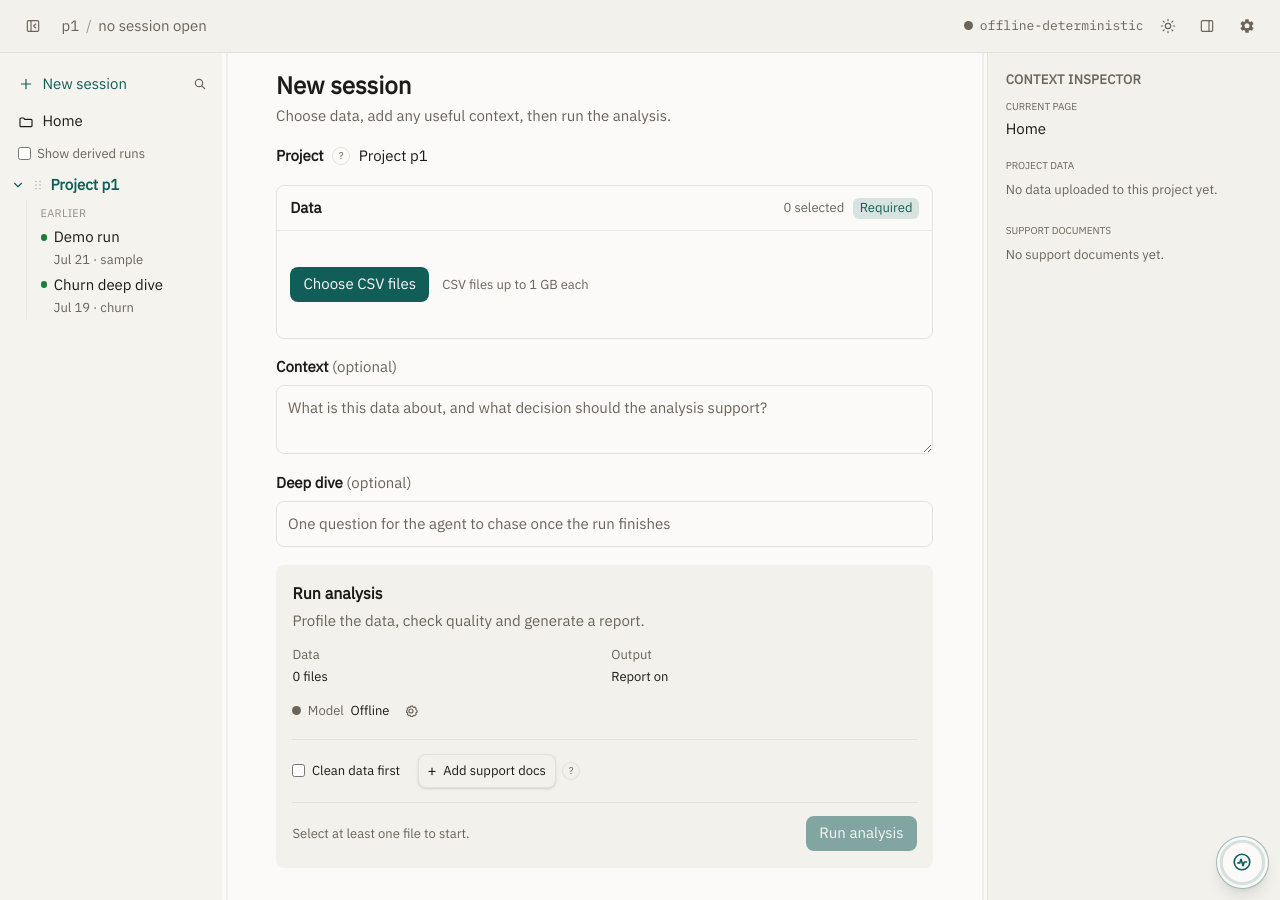
Launchpad › opens Settings in a dialog without leaving the page
Expected: the heading "New session" is shown, [276, 69, 411, 101]
Click the button named "Configure LLM in Settings": (411,711) [396, 696, 427, 726]
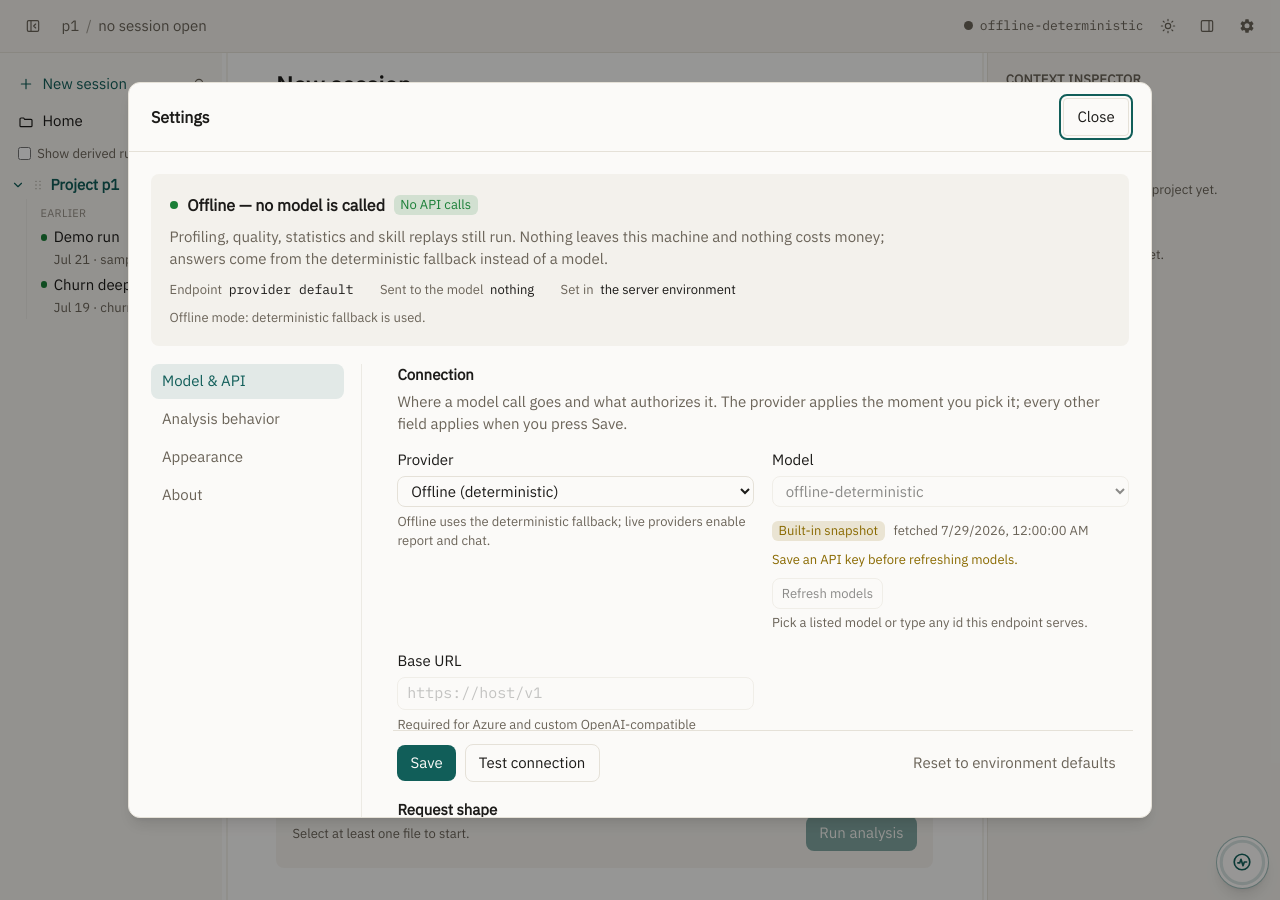
Expected: the heading "New session" is shown, [276, 69, 411, 101]
Now the dialog "Settings" is shown
